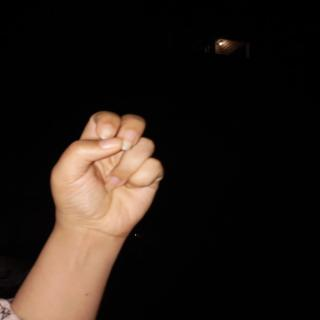QAAF: (46, 103, 178, 242)
